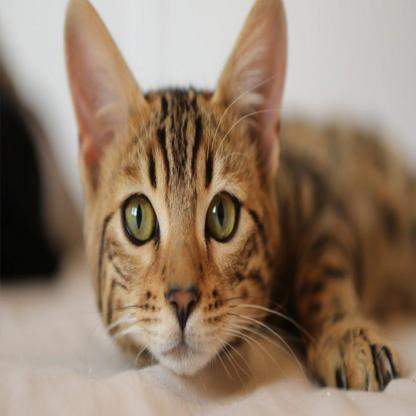gato: (44, 15, 305, 393)
